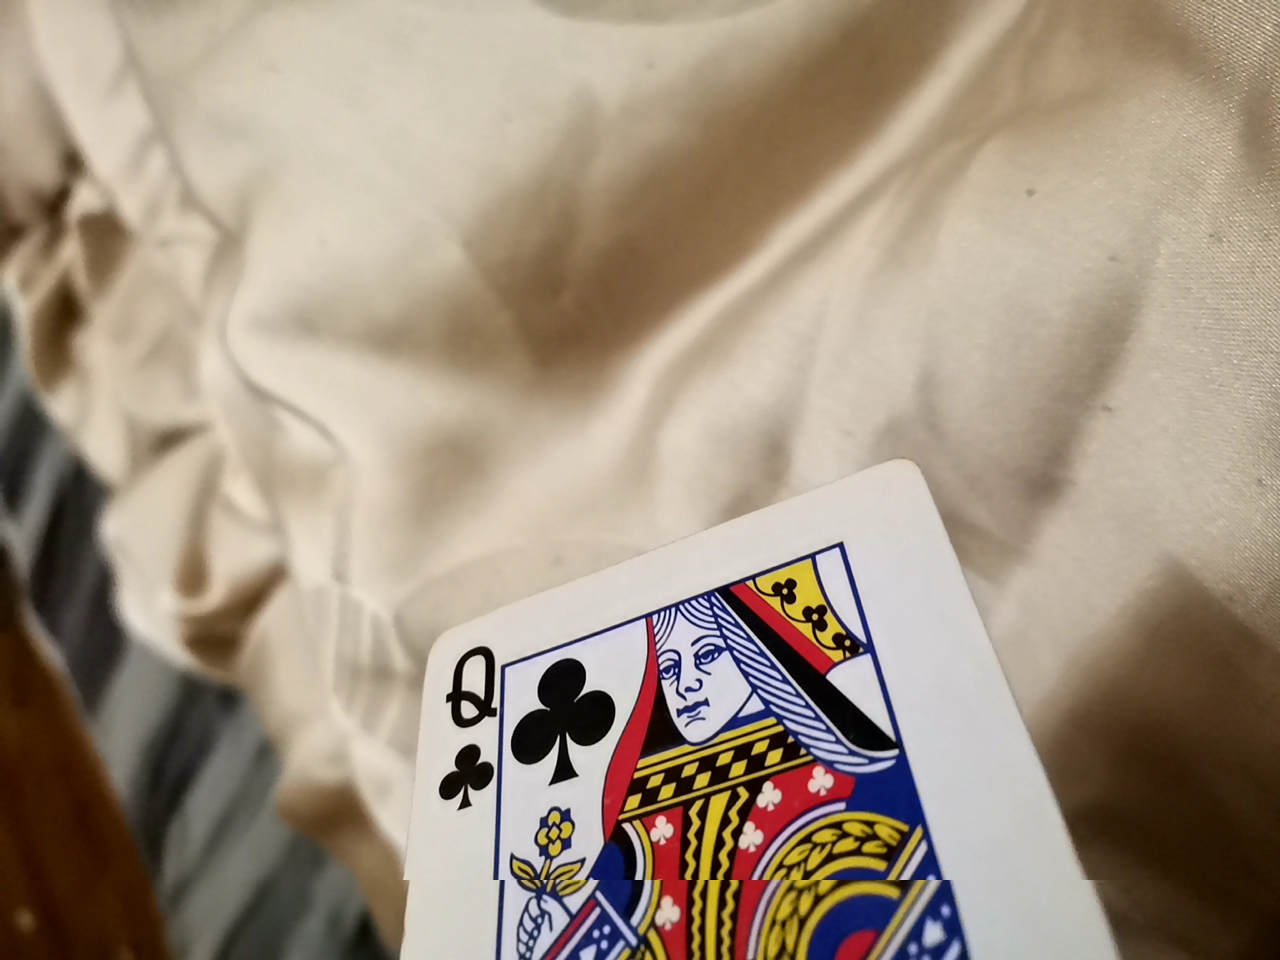mh q: (393, 456, 1175, 959)
